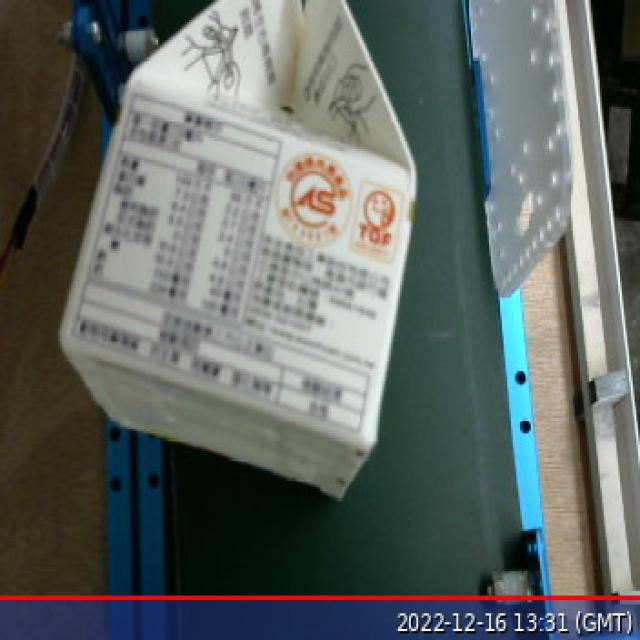non_white_jug: (46, 0, 429, 513)
